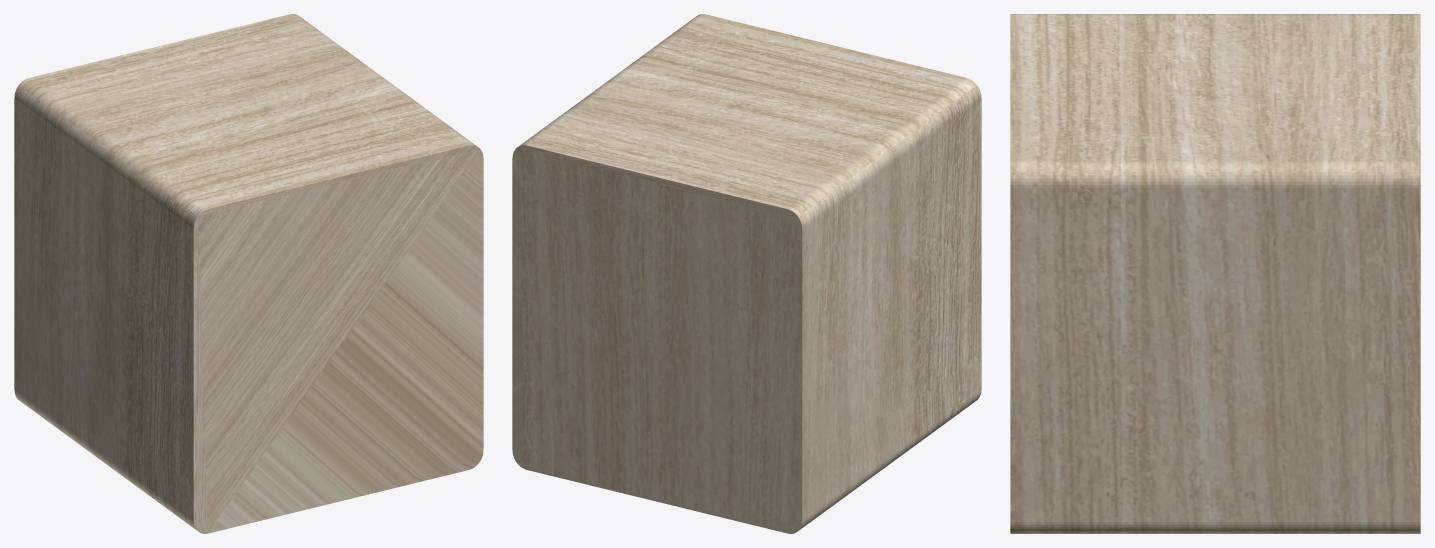
File: modeling08.glb
The picture shows the model from 3 angles, left to right: view 1: azimuth 30°, elevation 25°; view 2: azimuth 150°, elevation 25°; view 3: azimuth 270°, elevation 25°; orthographic projection. The views are drawn at different scales.
Parts seen in each view (by area): view 1: 큐브.001; view 2: 큐브.001; view 3: 큐브.001.
Part boxes in pixels (x1,y1,x2,y2): 큐브.001: (14, 14, 483, 533); 큐브.001: (512, 14, 981, 533); 큐브.001: (1010, 14, 1420, 533).
Size of the model in its own units: 0.8728 by 0.9338 by 0.935.
1 material, 1 textured.
